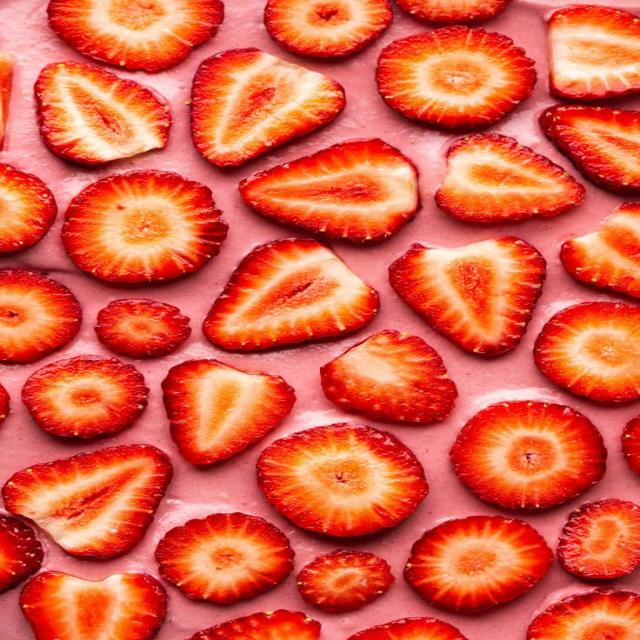strawberry sliced: (203, 239, 379, 350), (2, 445, 172, 558), (258, 424, 428, 536), (389, 237, 546, 356), (240, 139, 419, 242), (62, 170, 226, 282), (192, 49, 345, 166), (376, 25, 536, 128), (451, 402, 606, 508), (405, 516, 553, 613), (162, 360, 295, 464), (35, 62, 170, 164), (436, 134, 584, 222), (320, 330, 457, 423), (48, 0, 223, 71), (156, 513, 293, 603), (534, 302, 639, 402), (22, 356, 148, 438), (20, 572, 166, 639), (540, 105, 639, 193), (548, 5, 639, 100), (0, 269, 81, 362), (561, 203, 639, 297), (265, 0, 393, 57), (558, 500, 639, 579), (297, 550, 394, 612), (95, 299, 191, 357), (527, 590, 639, 639), (0, 163, 57, 253), (191, 610, 320, 639), (0, 515, 43, 593), (396, 0, 510, 24), (348, 618, 466, 639), (0, 50, 13, 150), (622, 416, 640, 475), (0, 384, 10, 423)
